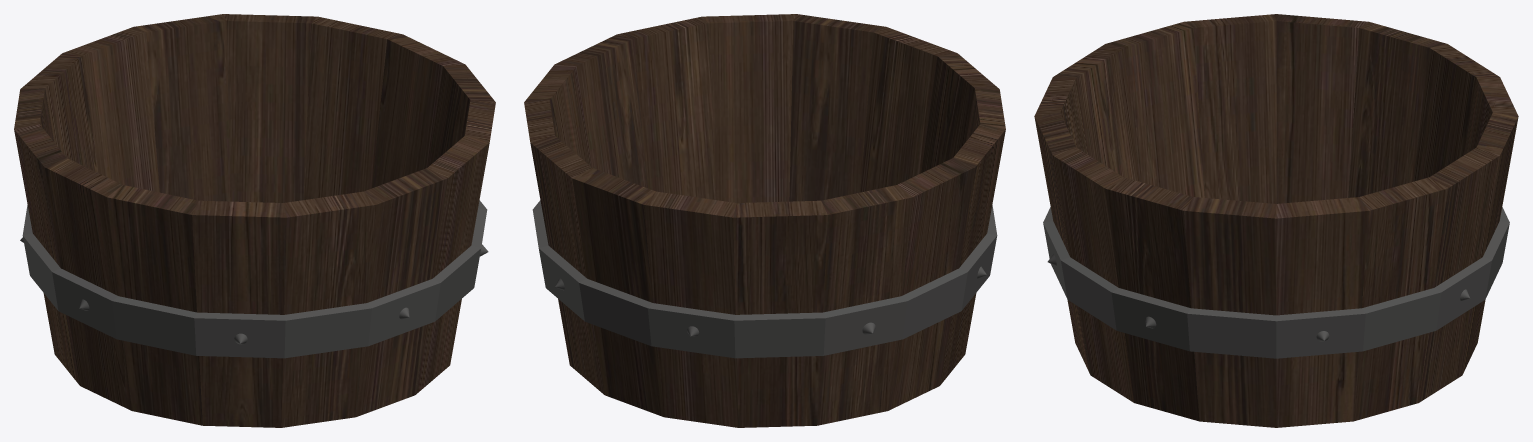
Rendered from F_Bucket.fbx.
The picture shows the model from 3 angles, left to right: view 1: azimuth 30°, elevation 25°; view 2: azimuth 150°, elevation 25°; view 3: azimuth 270°, elevation 25°; orthographic projection.
Parts seen in each view (by area): view 1: F_Bucket_01.011; view 2: F_Bucket_01.011; view 3: F_Bucket_01.011.
Boxes of the visible parts, <box> form: F_Bucket_01.011: <box>14,14,495,427</box>; F_Bucket_01.011: <box>524,14,1005,427</box>; F_Bucket_01.011: <box>1034,14,1518,427</box>.
Bounding box in the file's own units: 77.66 × 40.77 × 77.66.
1 material, 1 textured.
